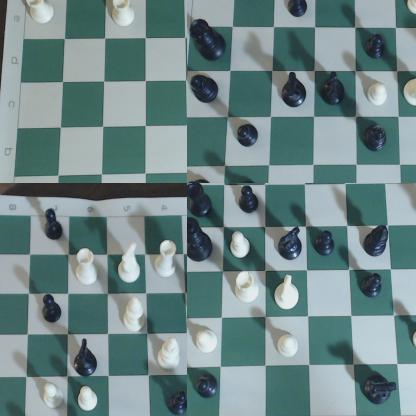black-bishop: (189, 73, 223, 106), (366, 223, 392, 262), (363, 119, 390, 153)
black-king: (188, 214, 218, 274)
black-knight: (365, 370, 403, 407), (281, 70, 310, 109), (73, 340, 101, 380), (279, 226, 303, 263)
black-pawn: (355, 273, 390, 308), (322, 73, 349, 109), (195, 372, 224, 405), (234, 184, 261, 219), (368, 29, 389, 67), (41, 209, 65, 242), (320, 229, 342, 265), (43, 293, 64, 327), (236, 121, 260, 150), (286, 1, 311, 20), (170, 389, 187, 416), (235, 176, 260, 183)
black-queen: (188, 19, 230, 62)
black-rook: (188, 184, 218, 223)
white-bishop: (124, 295, 148, 336), (154, 338, 181, 374)
white-knight: (118, 243, 143, 287), (274, 277, 300, 310), (404, 72, 416, 109)
white-pawn: (194, 322, 222, 359), (37, 380, 66, 413), (231, 227, 254, 264), (75, 387, 102, 416), (275, 331, 301, 361), (367, 79, 388, 115), (405, 1, 416, 21)
white-rook: (152, 238, 182, 281), (231, 269, 261, 307), (74, 247, 100, 290), (24, 1, 62, 28), (112, 1, 138, 28)
